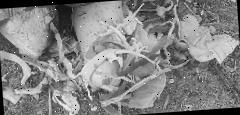organic: (84, 16, 127, 86), (9, 16, 52, 58)
